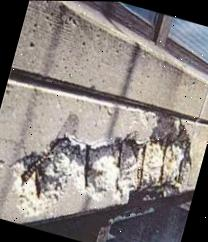exposed_rebar: (21, 139, 60, 197), (84, 144, 90, 186), (117, 140, 122, 167)
spalling: (11, 111, 191, 217)
